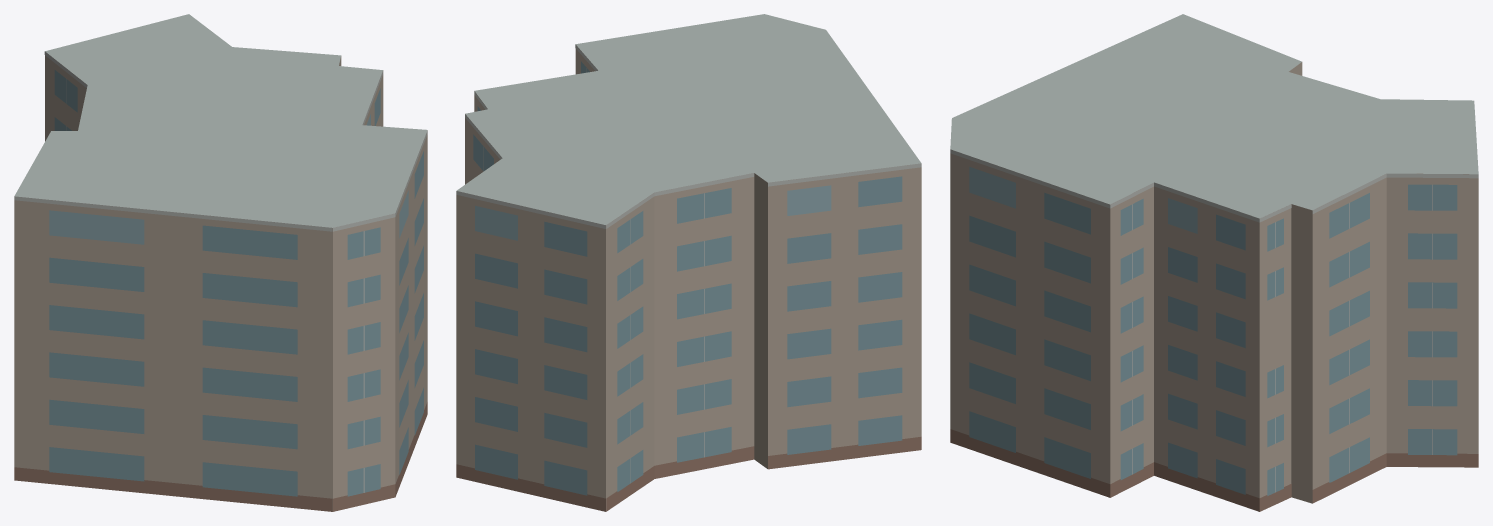
Rendered from survey-upis-32975767.glb.
3 renders of one model, left to right at view 1: azimuth 30°, elevation 25°; view 2: azimuth 150°, elevation 25°; view 3: azimuth 270°, elevation 25°, orthographic. The views are drawn at different scales.
Parts seen in each view (by area): view 1: survey-upis-32975767.tmp; view 2: survey-upis-32975767.tmp; view 3: survey-upis-32975767.tmp.
Boxes of the visible parts, box(x1,y1,x2,y2) form: survey-upis-32975767.tmp: box(14, 14, 427, 511); survey-upis-32975767.tmp: box(456, 14, 921, 511); survey-upis-32975767.tmp: box(950, 14, 1478, 511).
Size of the model in its own units: 26.64 by 17.8 by 29.07.
